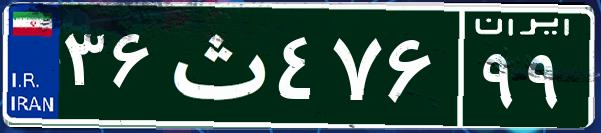3: (57, 26, 110, 107)
4: (273, 28, 330, 110)
6: (385, 28, 445, 110), (110, 28, 158, 105)
7: (330, 28, 385, 110)
9: (475, 38, 525, 113), (525, 38, 570, 115)
ث: (158, 15, 273, 115)
